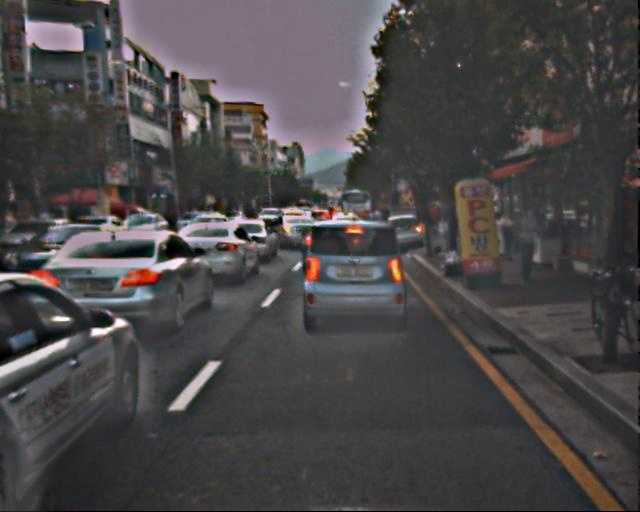person: (510, 206, 544, 290)
